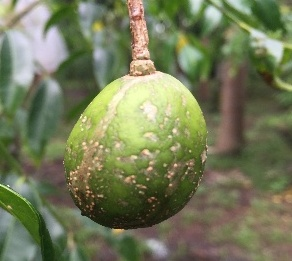Coc: (57, 74, 226, 234)
